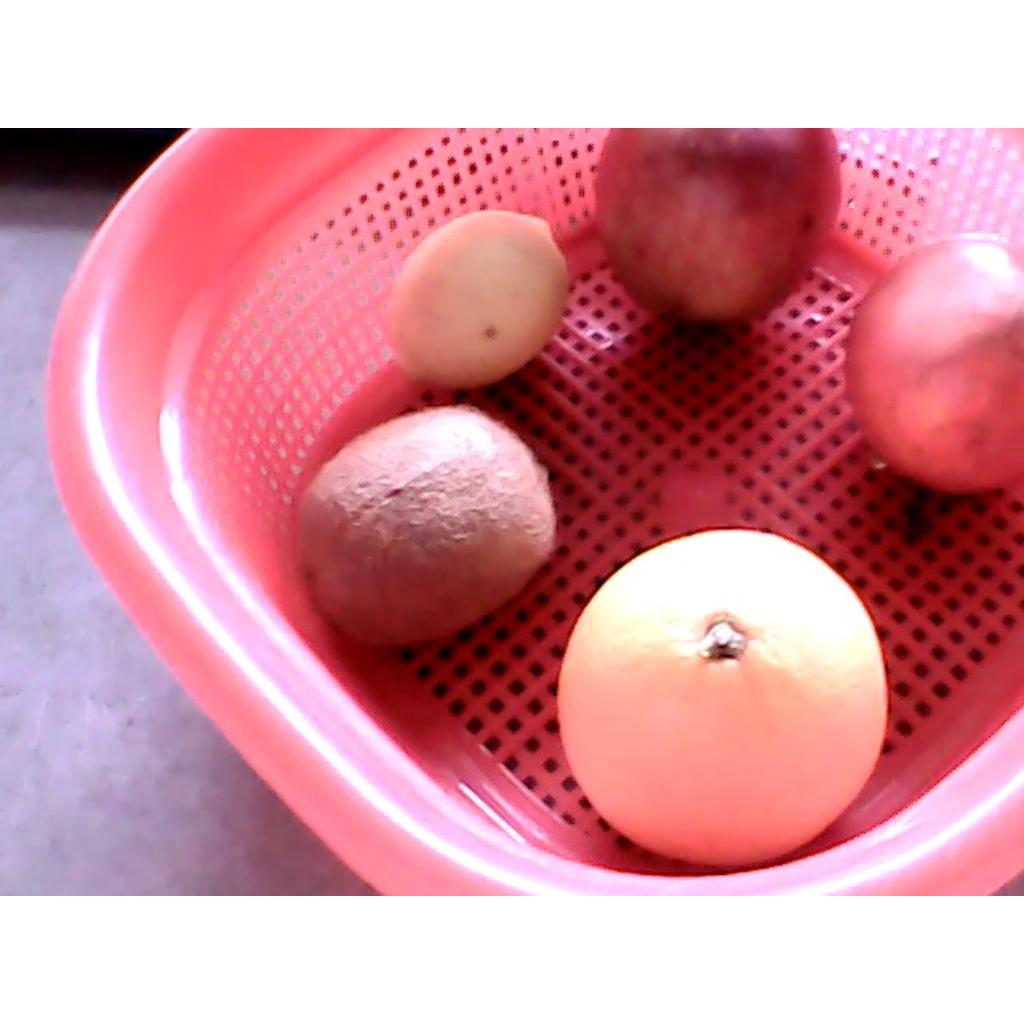apple: (594, 128, 842, 328)
kiwi: (296, 410, 557, 644)
lemon: (381, 210, 569, 387)
orange: (558, 526, 888, 867)
pomegranate: (845, 234, 1022, 496)
